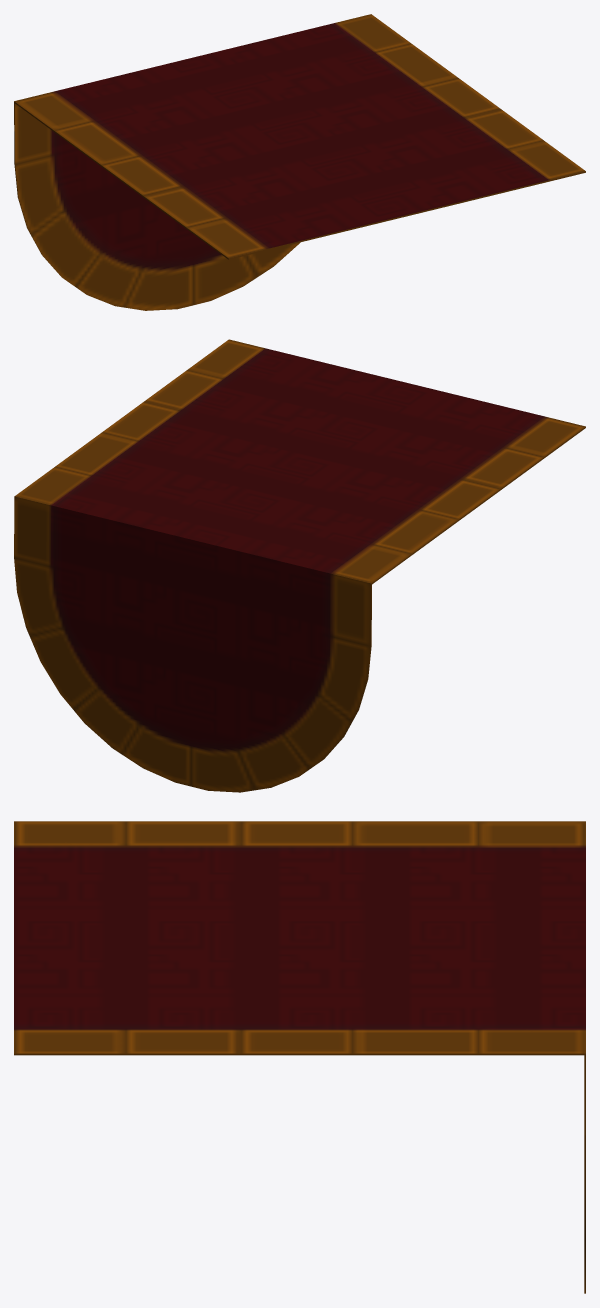
Rendered from TableCover.FBX.
The picture shows the model from 3 angles, top to bottom: view 1: azimuth 30°, elevation 25°; view 2: azimuth 150°, elevation 25°; view 3: azimuth 270°, elevation 25°; orthographic projection. The views are drawn at different scales.
Parts seen in each view (by area): view 1: TableCover; view 2: TableCover; view 3: TableCover.
Boxes of the visible parts, x1,y1,x2,y2 form: TableCover: (14, 14, 585, 310); TableCover: (14, 339, 585, 792); TableCover: (14, 821, 585, 1293).
Size of the model in its own units: 2.13 by 1.41 by 2.22.
